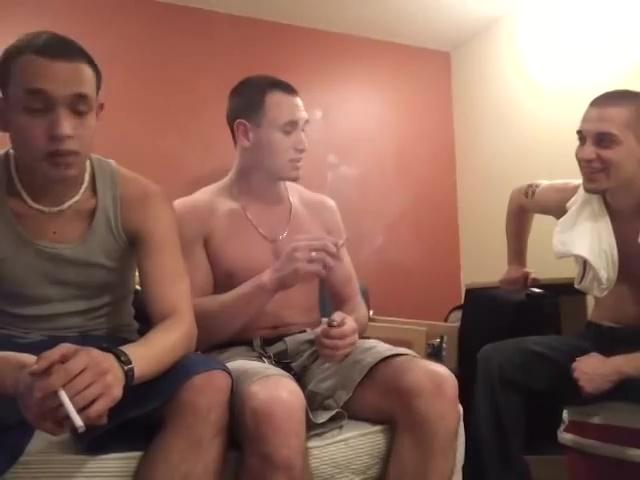cigarette: (56, 386, 91, 435), (334, 233, 352, 254)
